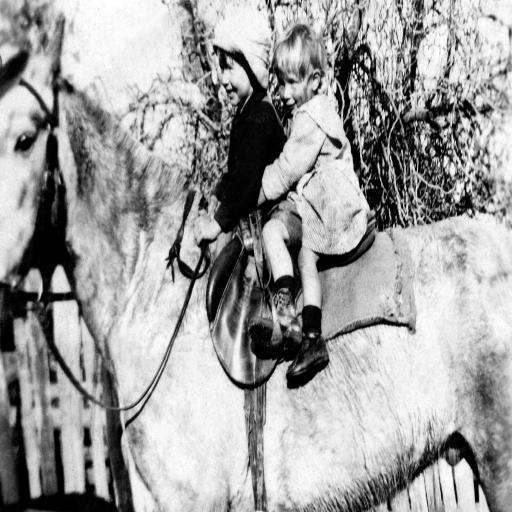horse: (0, 10, 512, 512)
